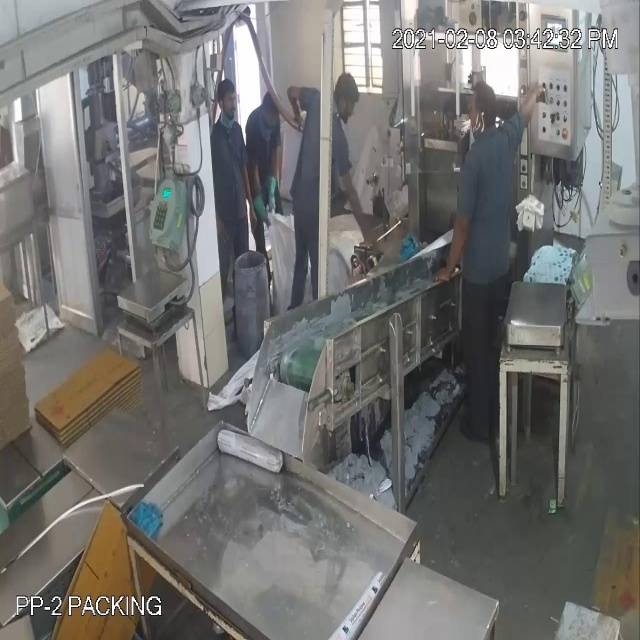Guantes: (252, 164, 283, 228)
Sin_guantes: (332, 155, 380, 252), (433, 190, 472, 280), (511, 72, 544, 133)
